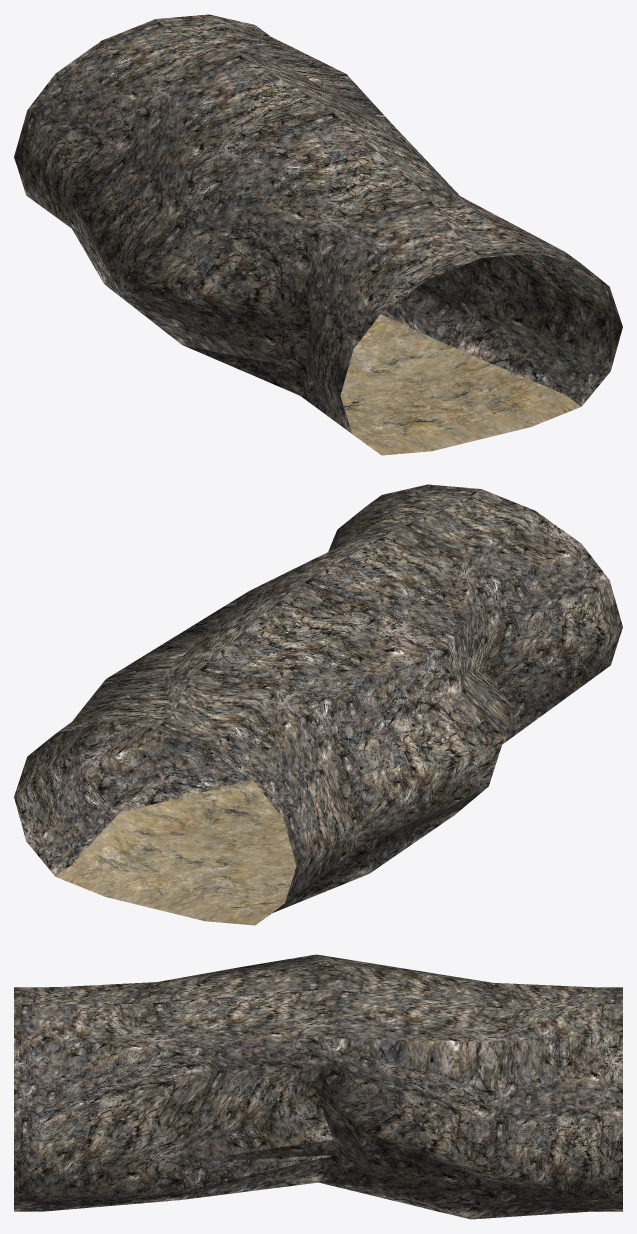
Rendered from pir_m_are_cav_hallNarrow100.fbx.
The picture shows the model from 3 angles, top to bottom: view 1: azimuth 30°, elevation 25°; view 2: azimuth 150°, elevation 25°; view 3: azimuth 270°, elevation 25°; orthographic projection. The views are drawn at different scales.
Parts seen in each view (by area): view 1: standardHallNarrow_wall, standardHallNarrow_floor; view 2: standardHallNarrow_wall, standardHallNarrow_floor; view 3: standardHallNarrow_wall.
Part boxes in pixels (bbox=[...]): standardHallNarrow_wall: bbox=[14, 14, 622, 442]; standardHallNarrow_floor: bbox=[340, 314, 581, 455]; standardHallNarrow_wall: bbox=[14, 484, 622, 913]; standardHallNarrow_floor: bbox=[55, 780, 296, 925]; standardHallNarrow_wall: bbox=[14, 954, 622, 1219].
Size of the model in its own units: 5964 by 3502 by 10000.
2 materials, 2 textured.
